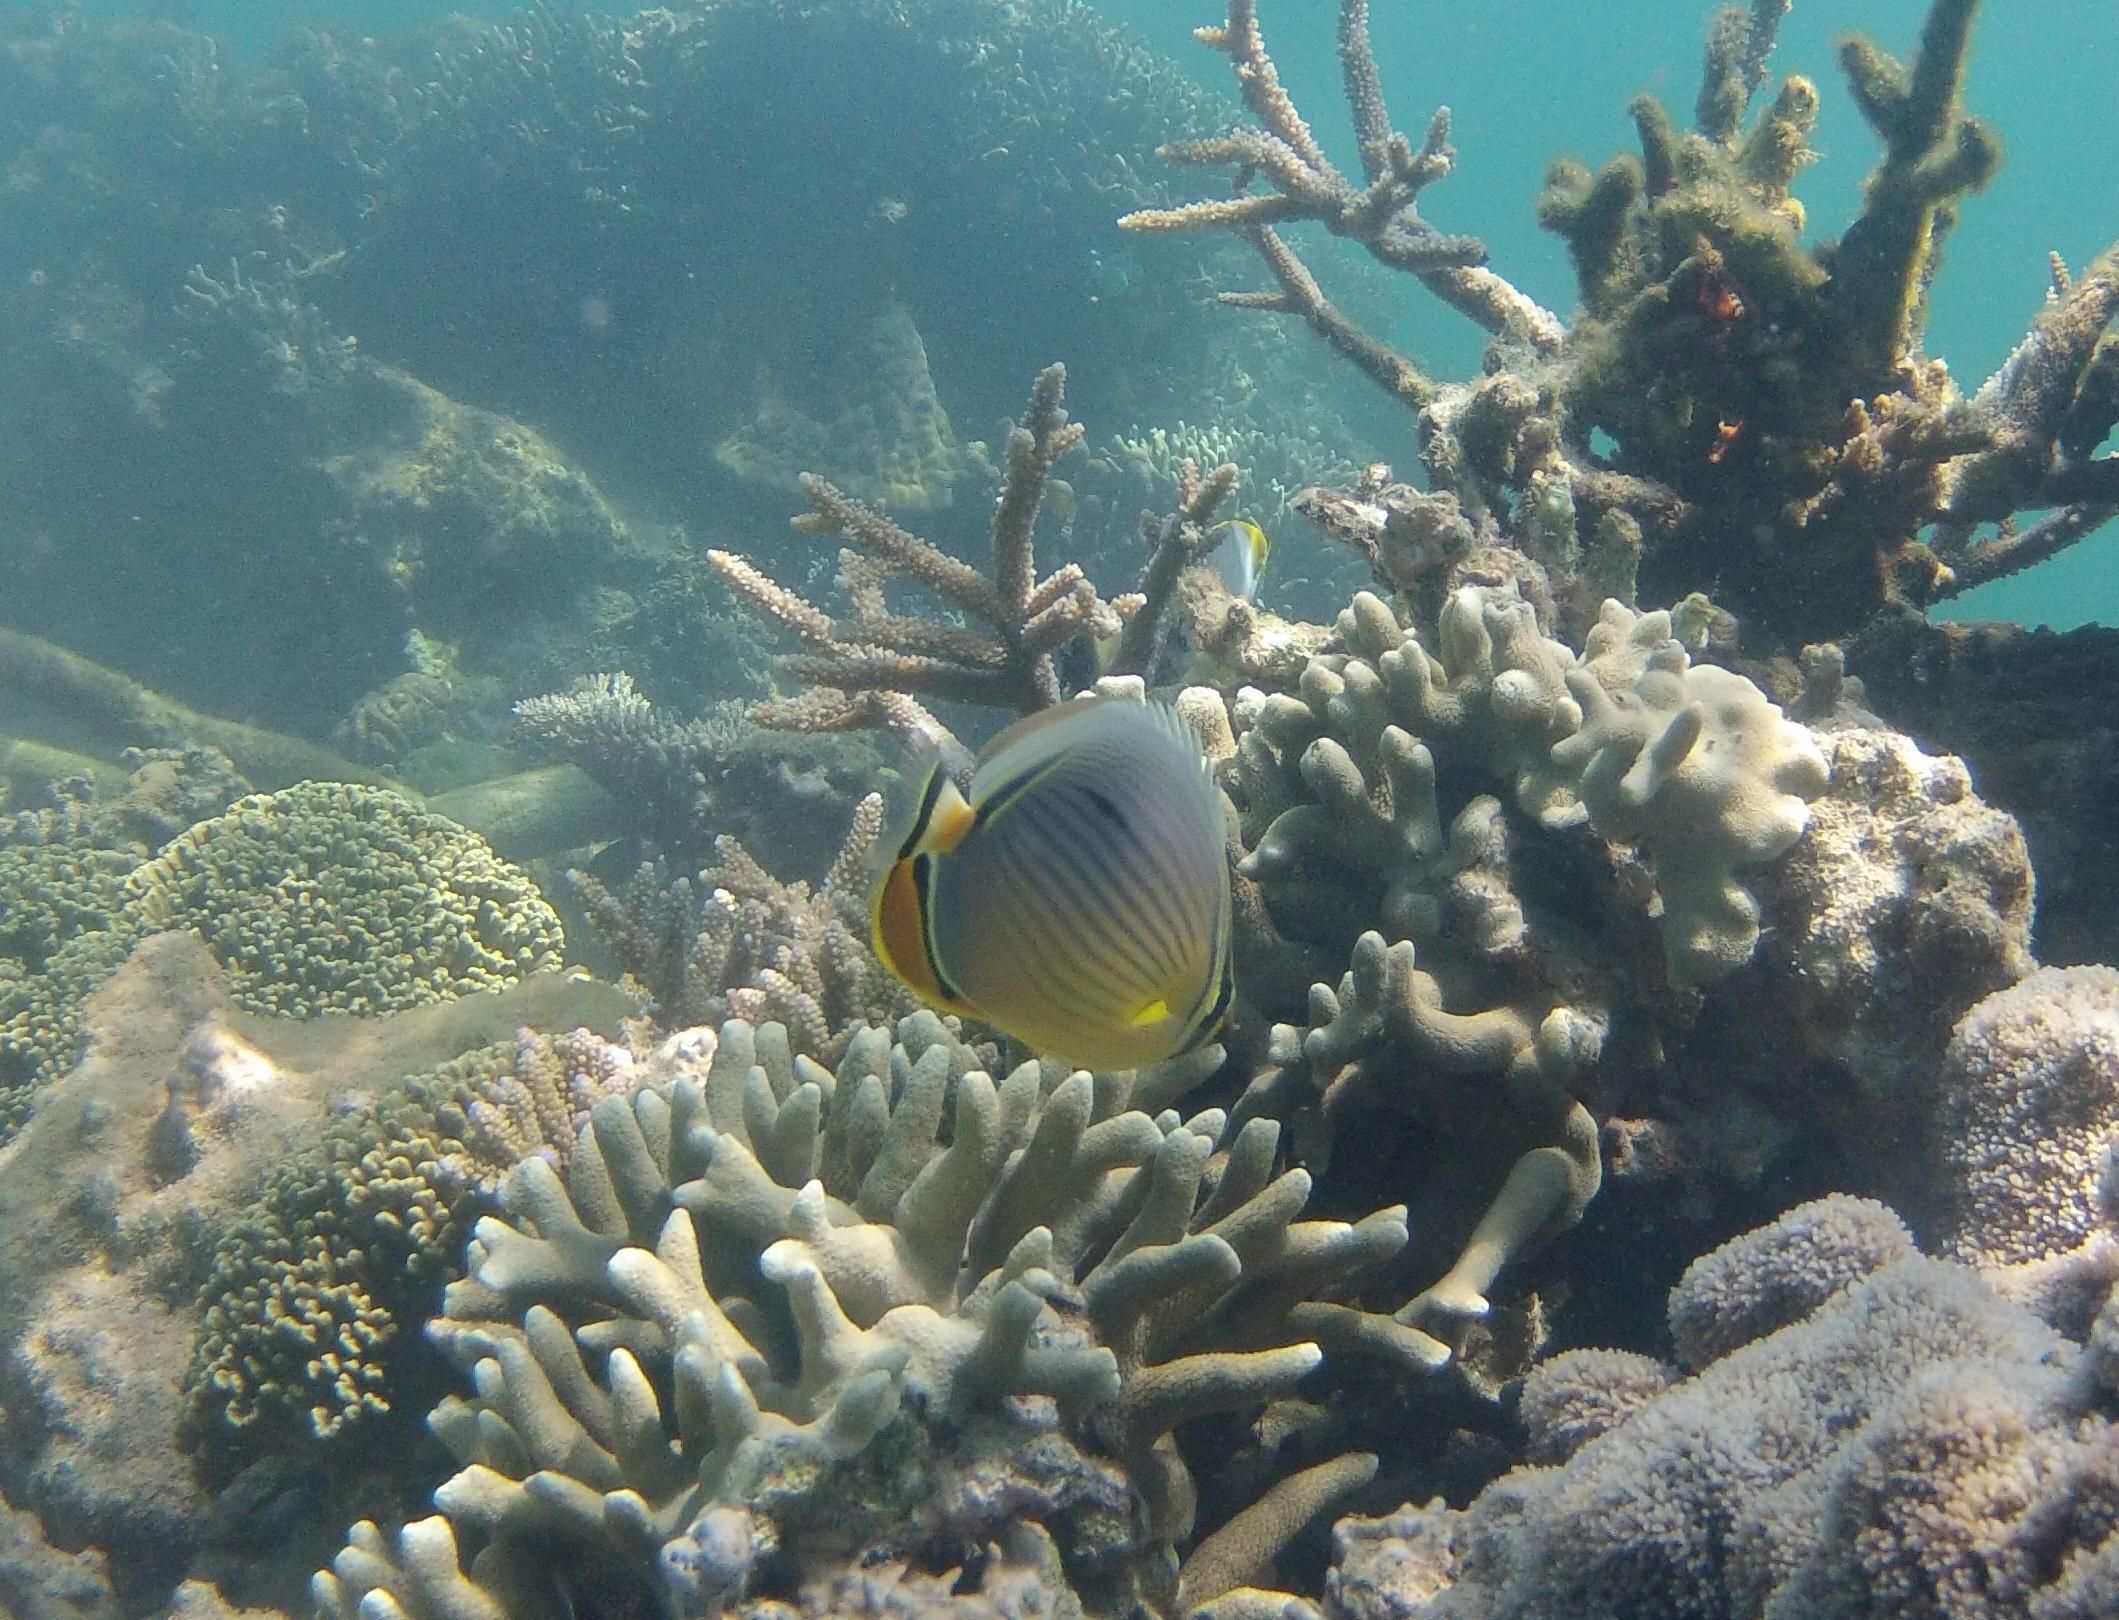Chaetodon trifasciatus: (800, 596, 1321, 1133)
